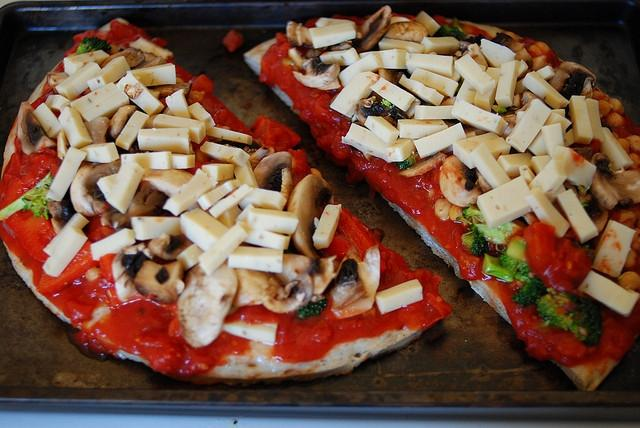broccoli: (536, 287, 603, 348), (1, 170, 54, 220), (482, 250, 531, 282), (511, 276, 549, 308), (461, 223, 490, 257), (476, 222, 514, 246), (432, 17, 467, 41), (73, 36, 112, 56), (295, 298, 328, 320), (396, 156, 412, 169), (492, 105, 507, 114)
mushroom: (178, 260, 238, 348), (287, 174, 334, 260), (100, 180, 170, 230), (262, 254, 320, 313), (70, 158, 121, 216), (590, 152, 640, 210), (440, 154, 492, 208), (252, 152, 294, 212), (112, 242, 154, 302), (134, 260, 185, 304), (17, 101, 58, 155), (288, 48, 340, 88), (352, 5, 394, 54), (564, 194, 608, 239), (329, 260, 366, 310), (558, 60, 598, 100), (232, 268, 266, 308), (398, 152, 448, 178), (46, 201, 77, 235), (383, 21, 428, 44), (99, 48, 145, 70), (148, 232, 177, 264), (108, 105, 136, 138), (286, 20, 314, 48), (84, 116, 110, 144), (490, 32, 526, 52), (354, 96, 376, 126), (248, 146, 269, 172), (134, 56, 168, 70), (46, 71, 70, 87), (243, 146, 258, 157)
tomato: (524, 222, 592, 292), (36, 240, 100, 294), (5, 209, 57, 264), (337, 209, 377, 261), (249, 114, 301, 152), (599, 316, 635, 362), (397, 300, 441, 331), (384, 258, 427, 288), (545, 330, 587, 360), (288, 149, 312, 188), (331, 128, 355, 160), (110, 21, 144, 40), (188, 74, 214, 98), (4, 153, 22, 187), (351, 150, 373, 174), (314, 94, 332, 122), (222, 29, 242, 52), (90, 227, 116, 244), (301, 96, 319, 112), (152, 38, 168, 46)
